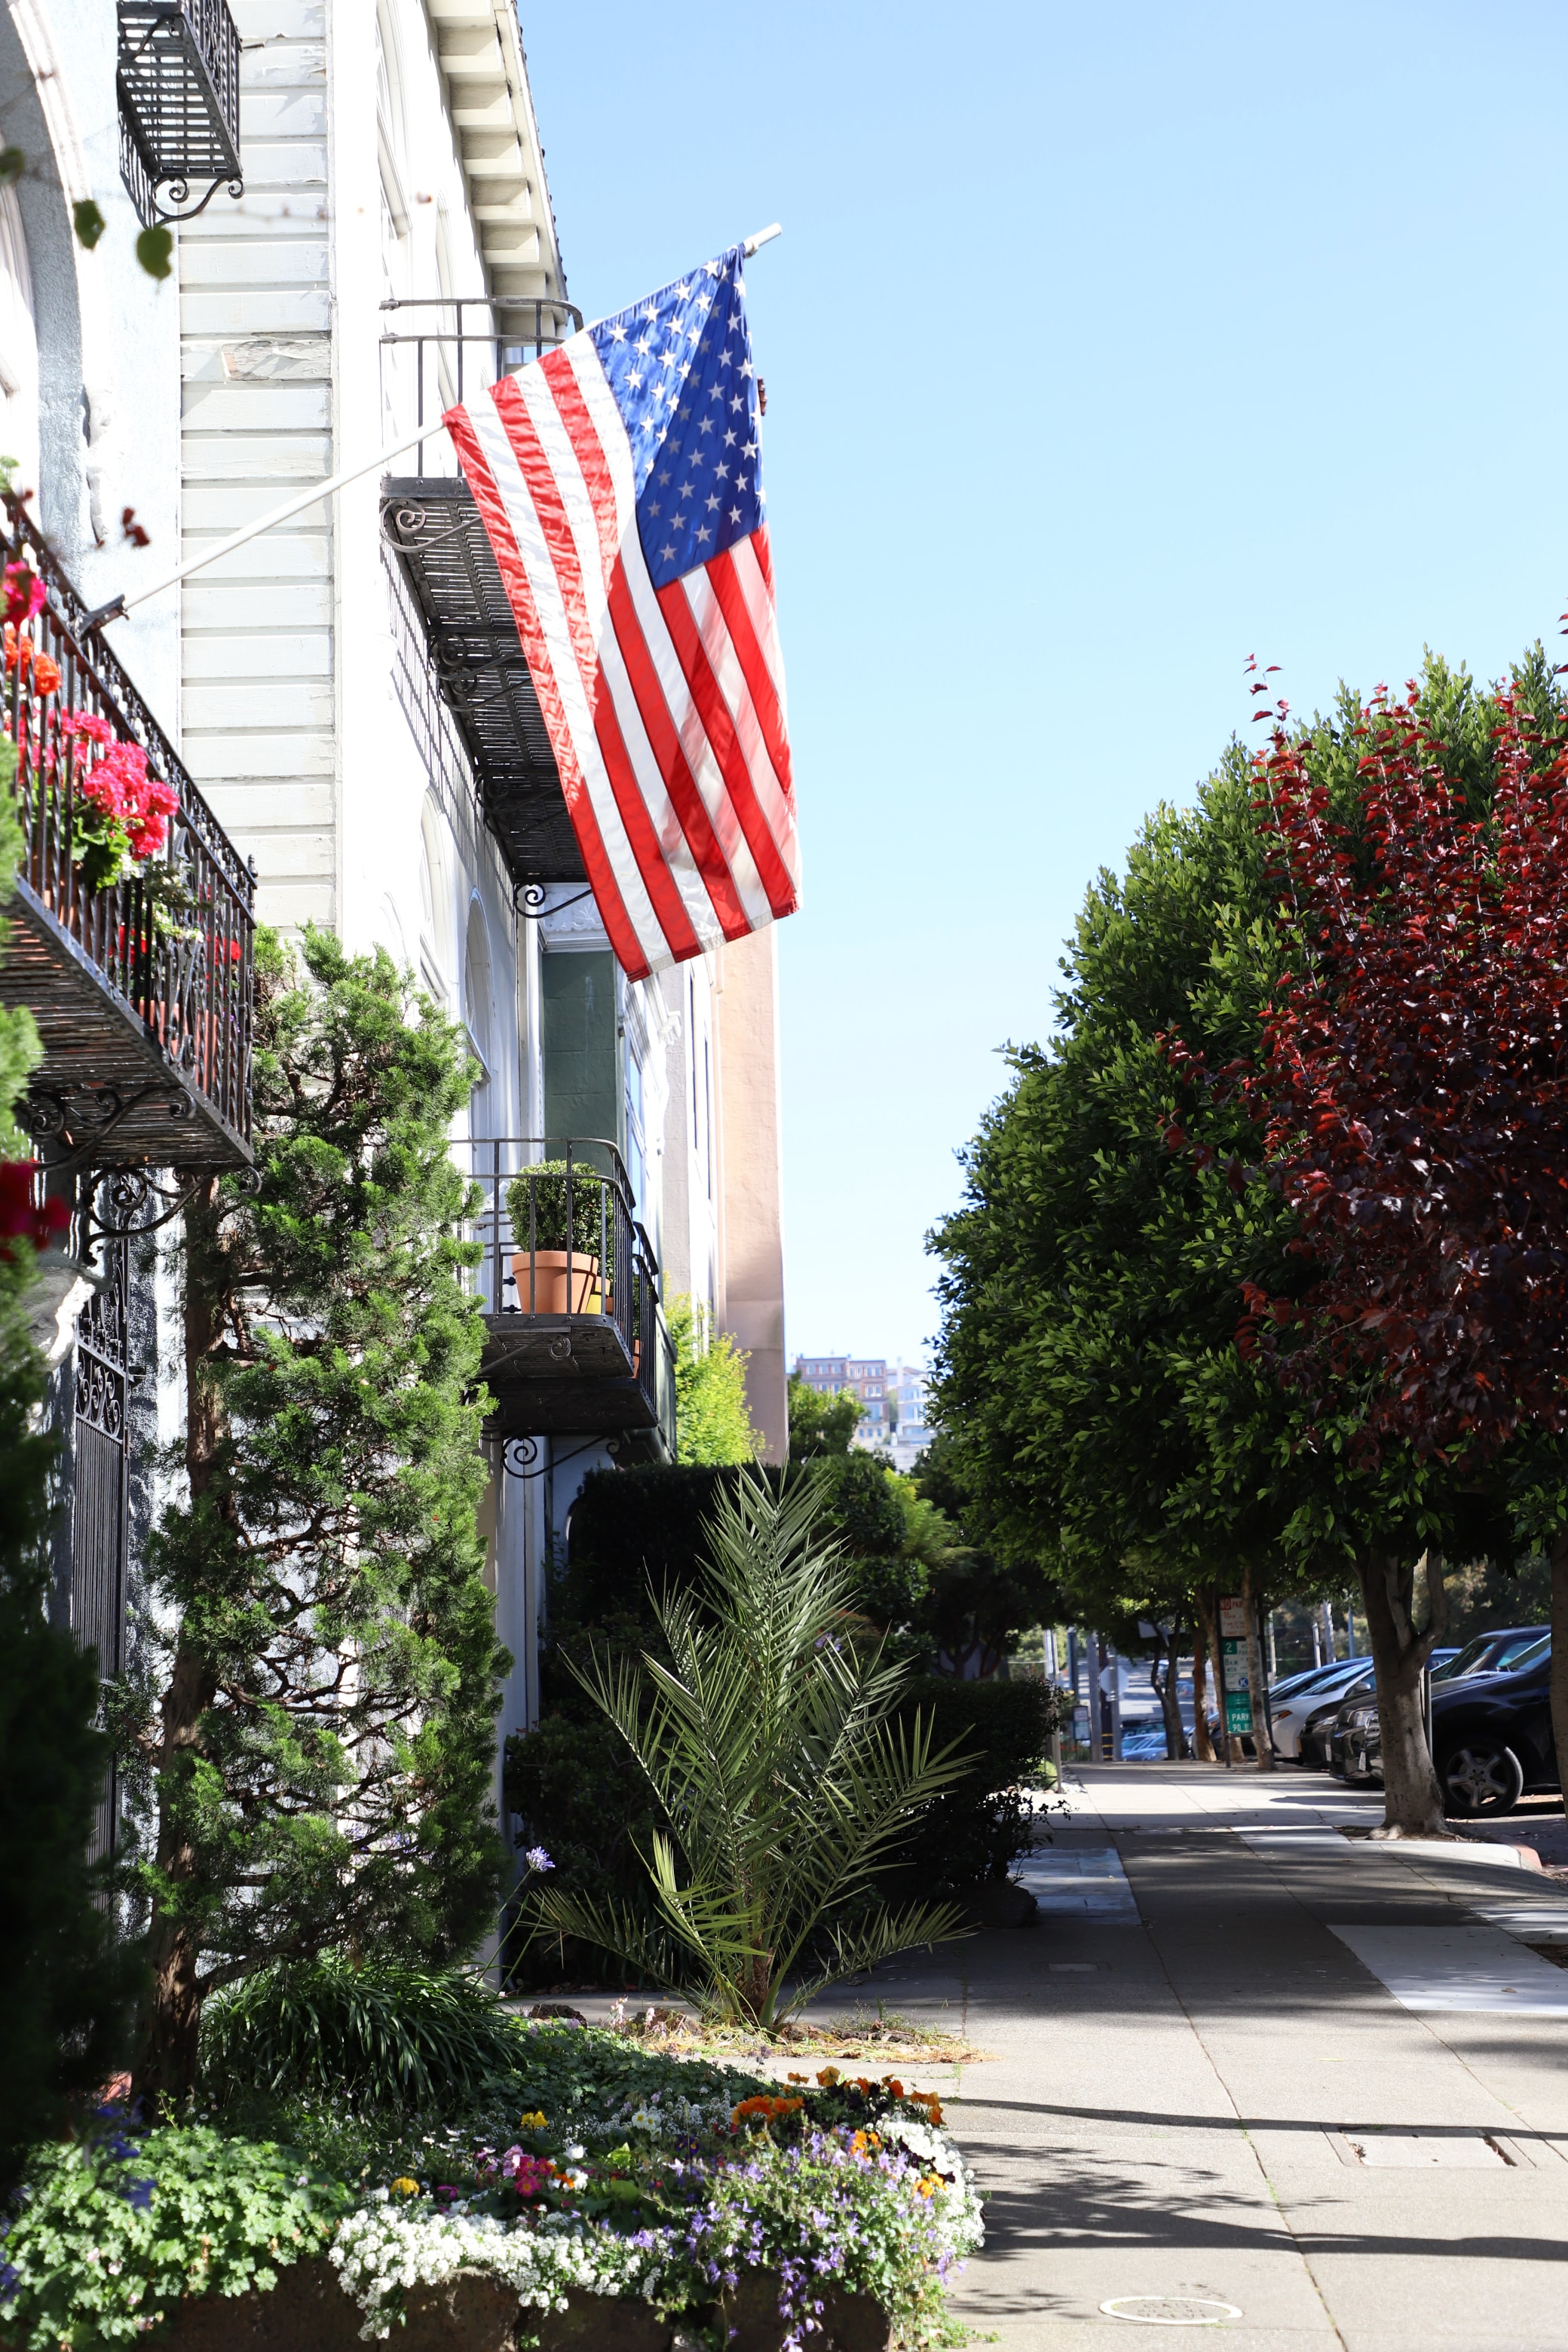Flag: (441, 233, 805, 987)
